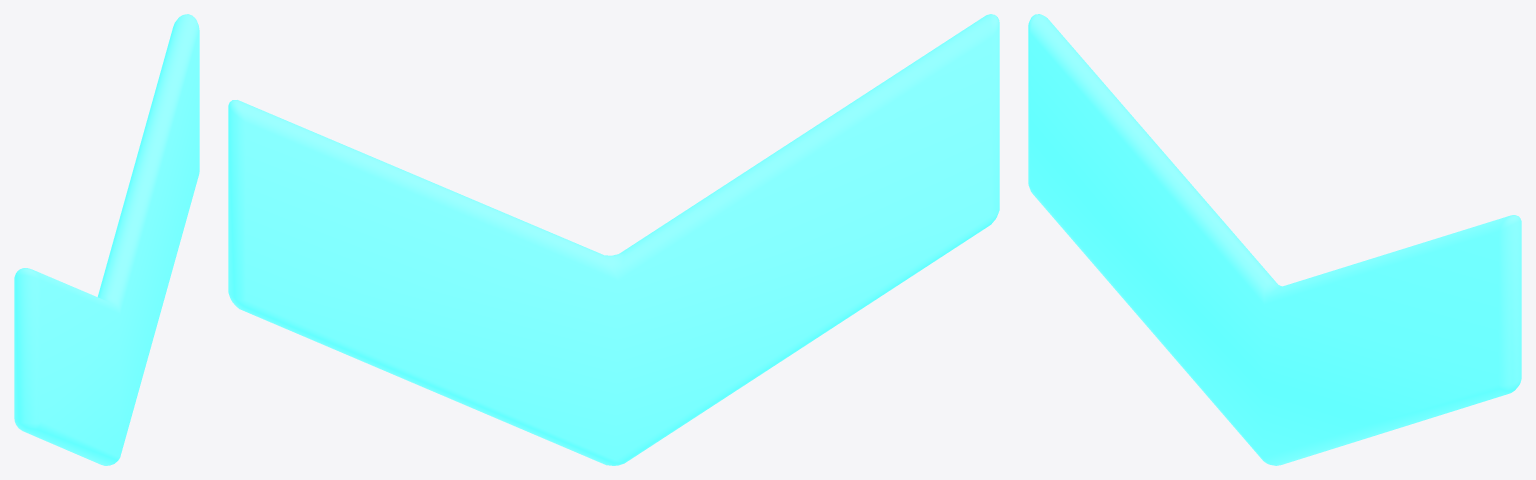
File: CafeValvetArrow.glb
The picture shows the model from 3 angles, left to right: view 1: azimuth 30°, elevation 25°; view 2: azimuth 150°, elevation 25°; view 3: azimuth 270°, elevation 25°; orthographic projection. The views are drawn at different scales.
Visible parts, largest first — view 1: Plane.005; view 2: Plane.005; view 3: Plane.005.
Part boxes in pixels (box(x1,y1,x2,y2)): Plane.005: box(14, 14, 199, 465); Plane.005: box(228, 14, 999, 465); Plane.005: box(1028, 14, 1521, 465).
Size of the model in its own units: 5.03 by 3.92 by 5.03.
